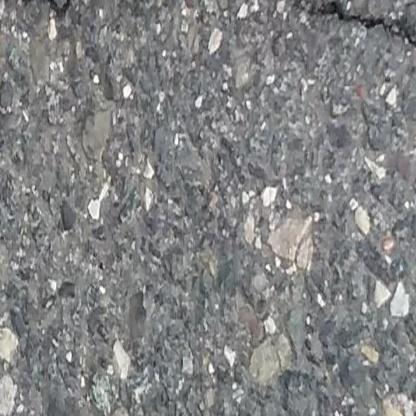Cracks: (239, 0, 416, 57), (0, 0, 164, 27)
